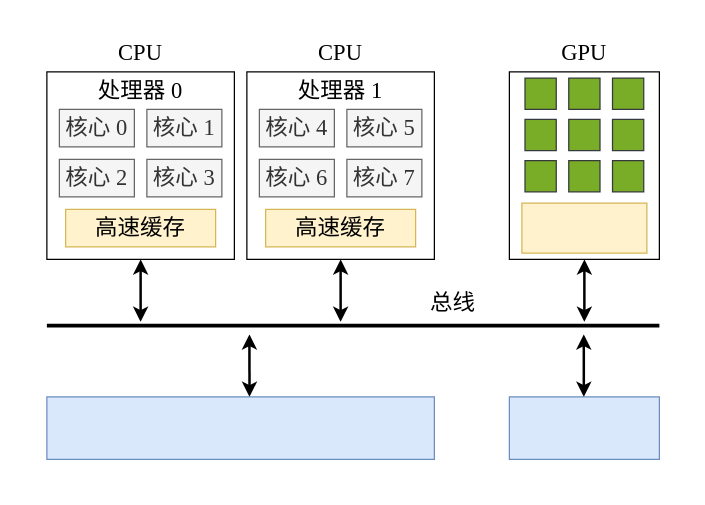
The diagram is 705 pixels wide and 505 high, and some of its shapes have lost their labels. Here are the shapes that lost their labels. From the top down, the centre of each, then its label:
the point at 584,227: GPU 内存
the point at 240,427: 主存
the point at 583,427: 网卡
